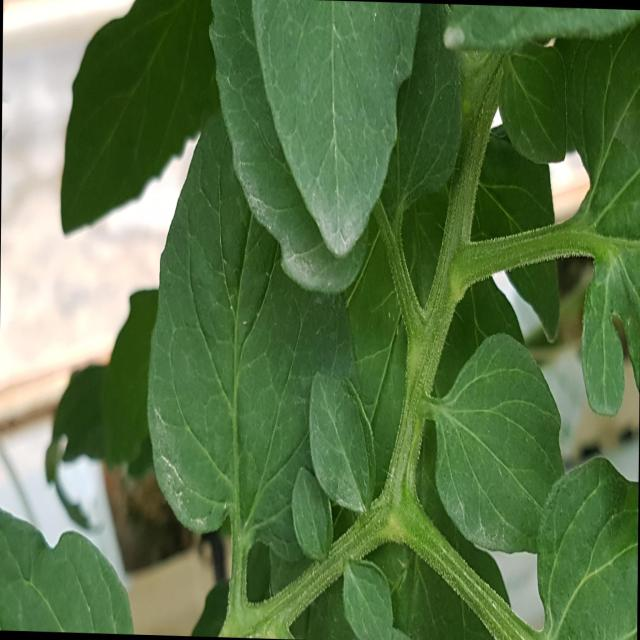Healthy Leaf: (411, 320, 580, 581), (308, 367, 380, 517)
